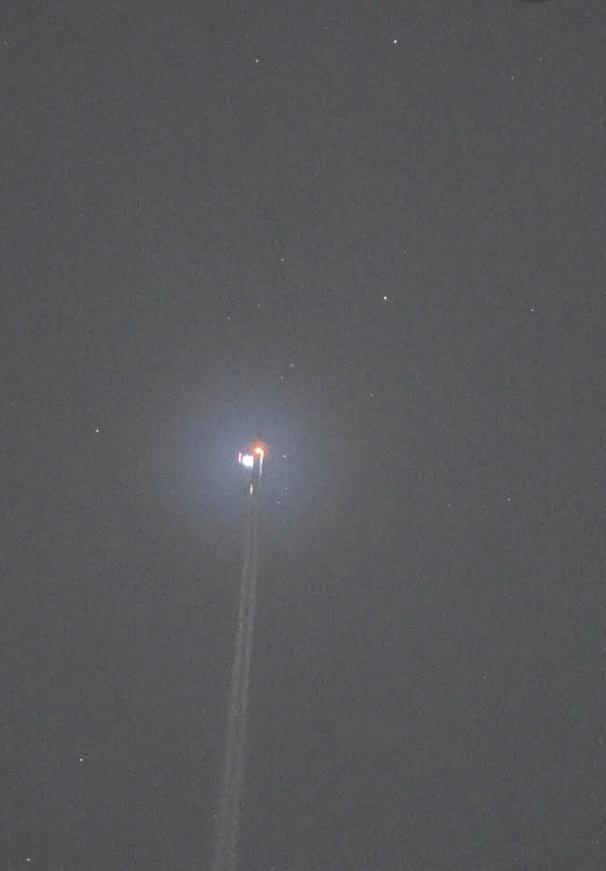Plane: (223, 425, 279, 502)
